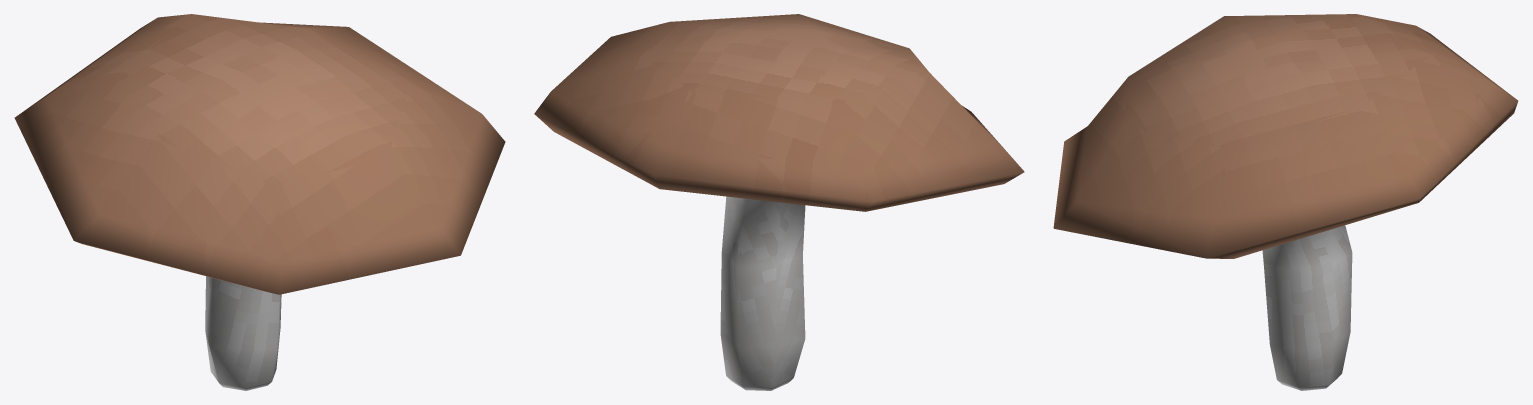
File: MushroomBrown.fbx
3 renders of one model, left to right at view 1: azimuth 30°, elevation 25°; view 2: azimuth 150°, elevation 25°; view 3: azimuth 270°, elevation 25°, orthographic. The views are drawn at different scales.
Parts seen in each view (by area): view 1: brown_mushroom; view 2: brown_mushroom; view 3: brown_mushroom.
Part boxes in pixels (<box>): brown_mushroom: <box>14,14,505,390</box>; brown_mushroom: <box>534,14,1024,390</box>; brown_mushroom: <box>1053,14,1518,390</box>.
Size of the model in its own units: 0.1948 by 0.1402 by 0.182.
